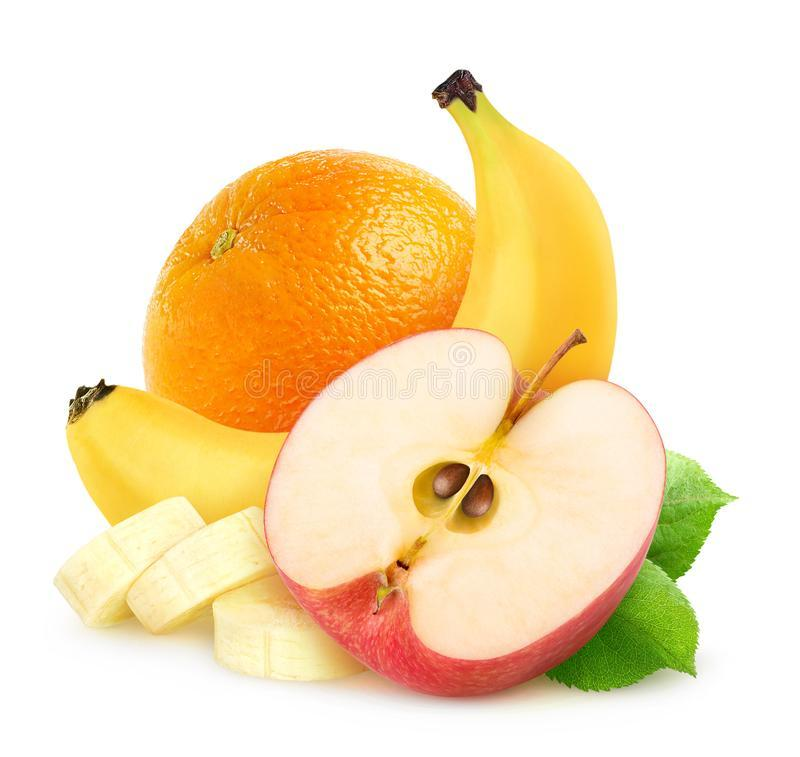banana: (77, 133, 674, 590)
orange: (141, 155, 499, 513)
